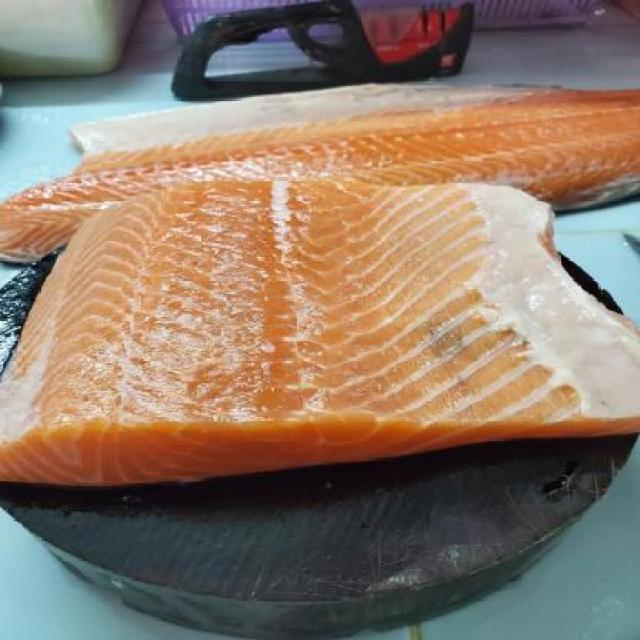salmon: (0, 169, 640, 494), (7, 82, 640, 265)
